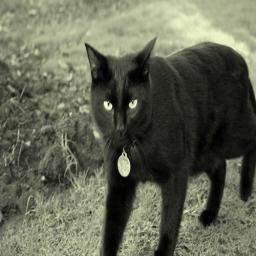catnose: (115, 123, 127, 138)
